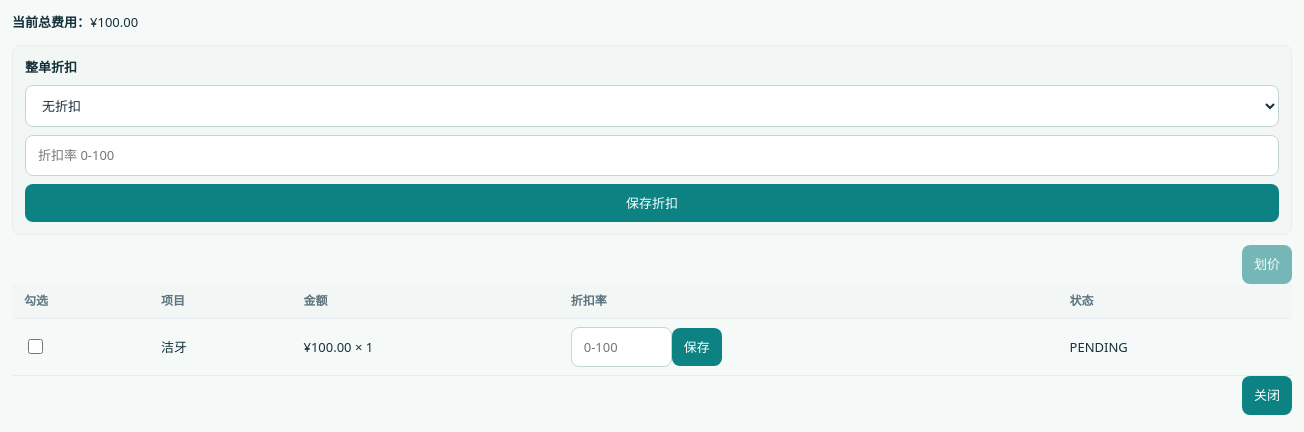
PlanBillingDialog › saves an item discount and updates the total
Expected: the text "洁牙" is shown, [149,318,292,376]
In the number field named "明细折扣 洁牙": (621, 347) [571,327,672,367], type "90"
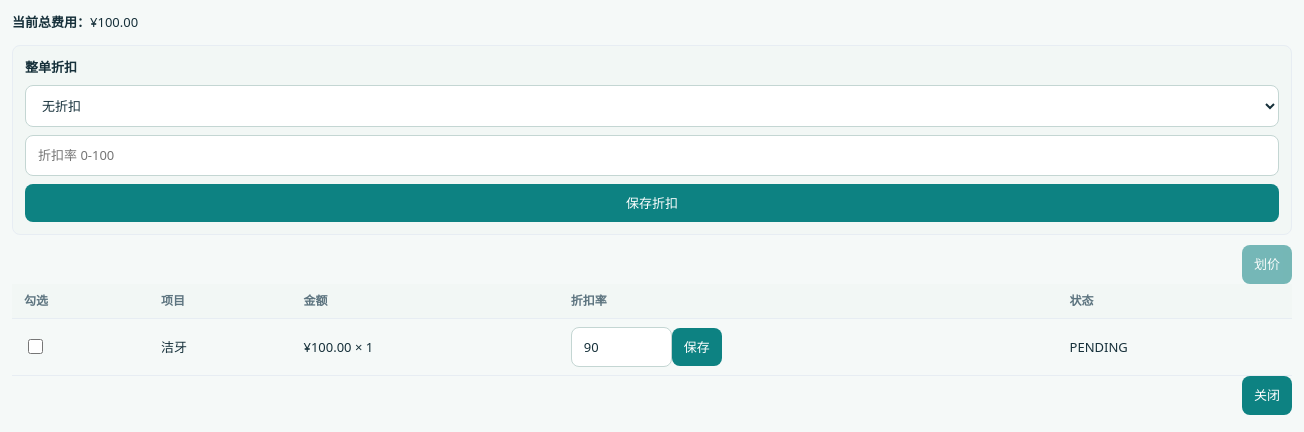
Click the button "保存": (697, 347) [672,328,722,366]
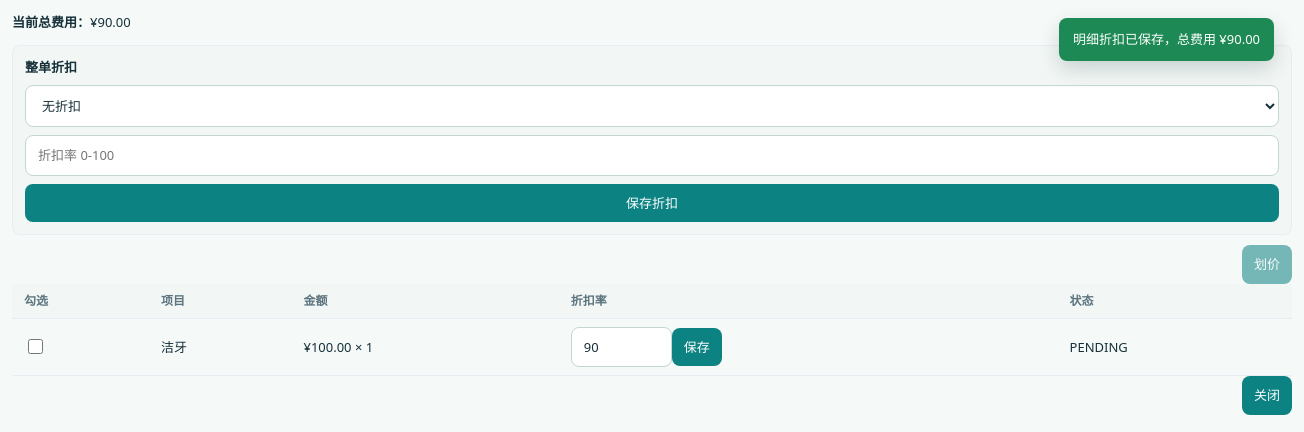
Result: the text "明细折扣已保存，总费用 ¥90.00" is shown at [1059,18,1274,61]
